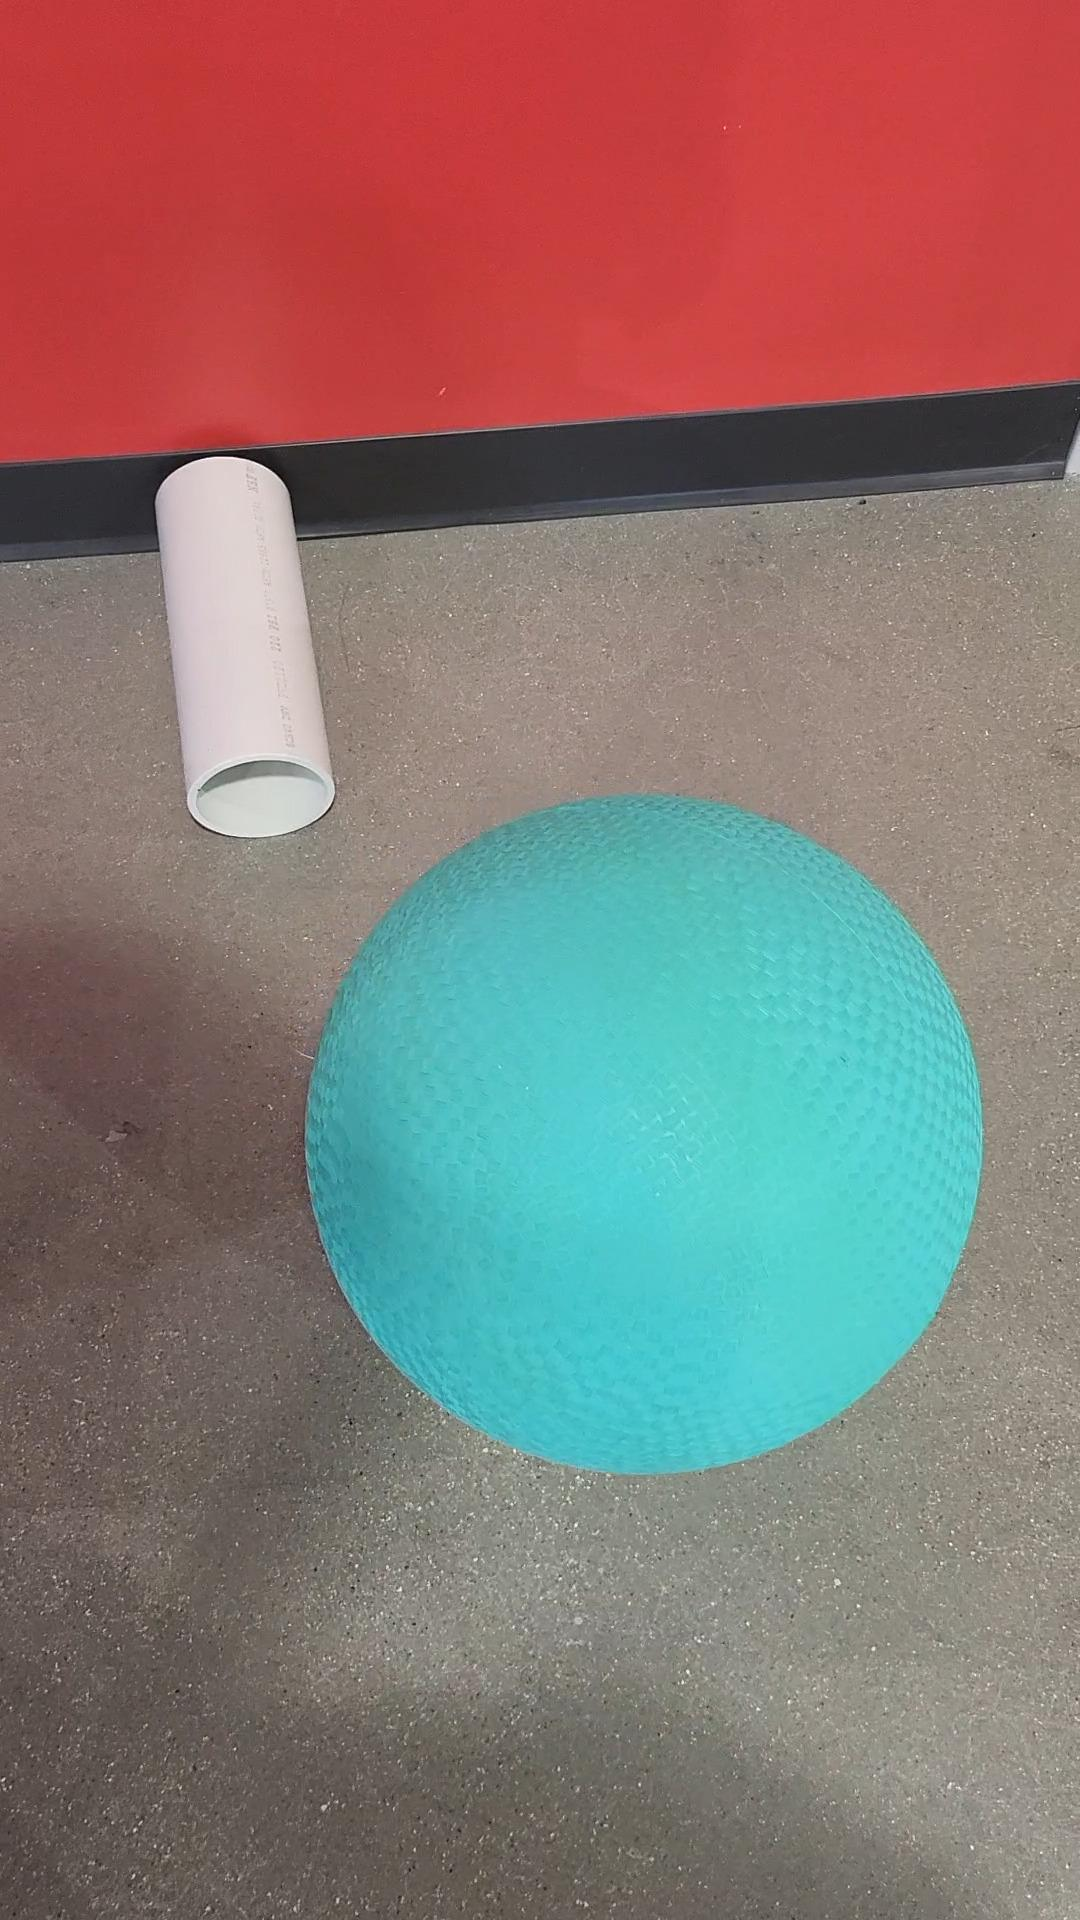algae: (295, 790, 990, 1486)
coral: (158, 462, 344, 845)
